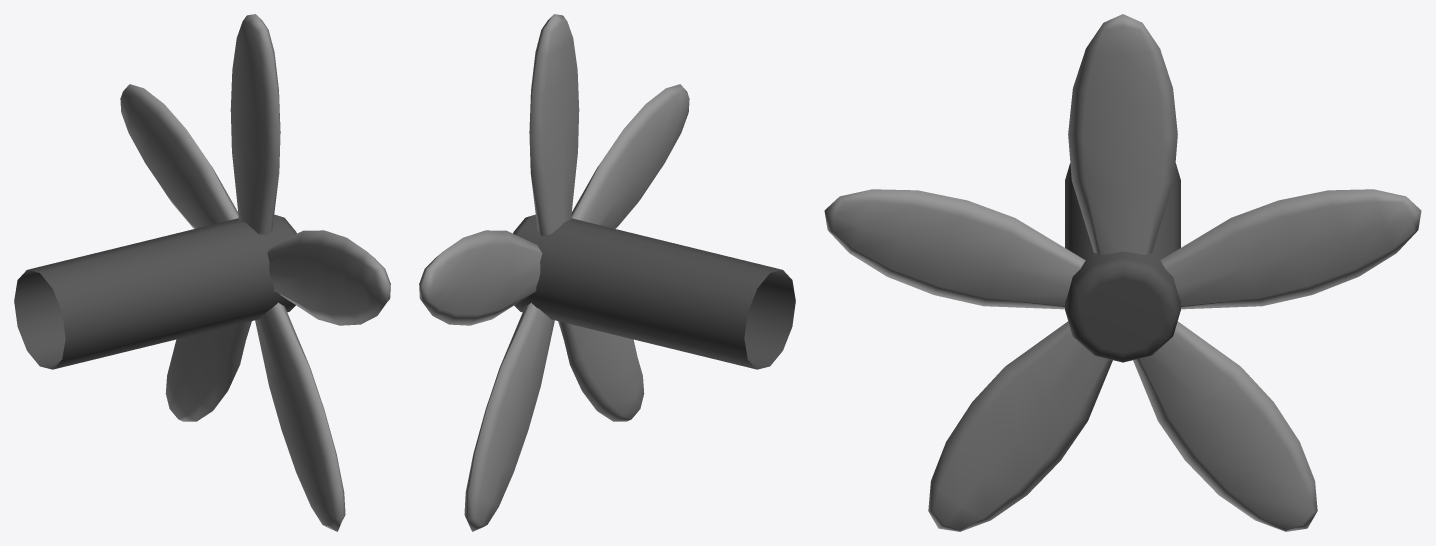
File: obstacle_3_004.fbx
3 views of the same model, side by side, from view 1: azimuth 30°, elevation 25°; view 2: azimuth 150°, elevation 25°; view 3: azimuth 270°, elevation 25° (orthographic). The views are drawn at different scales.
Visible parts, largest first — view 1: obstacle_3_004; view 2: obstacle_3_004; view 3: obstacle_3_004.
Part boxes in pixels (bbox=[...]): obstacle_3_004: bbox=[14, 14, 390, 531]; obstacle_3_004: bbox=[419, 14, 795, 531]; obstacle_3_004: bbox=[824, 14, 1421, 531].
Bounding box in the file's own units: 85.51 × 159 × 152.
